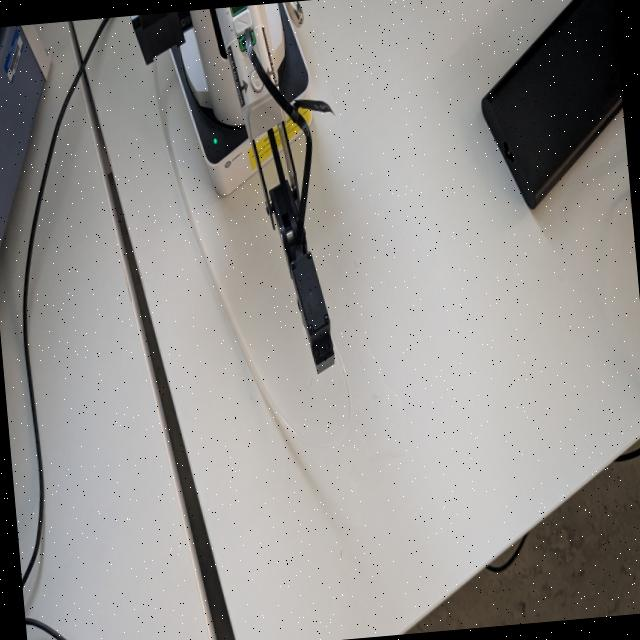Robot-end-effector-HF8z: (286, 238, 340, 380)
